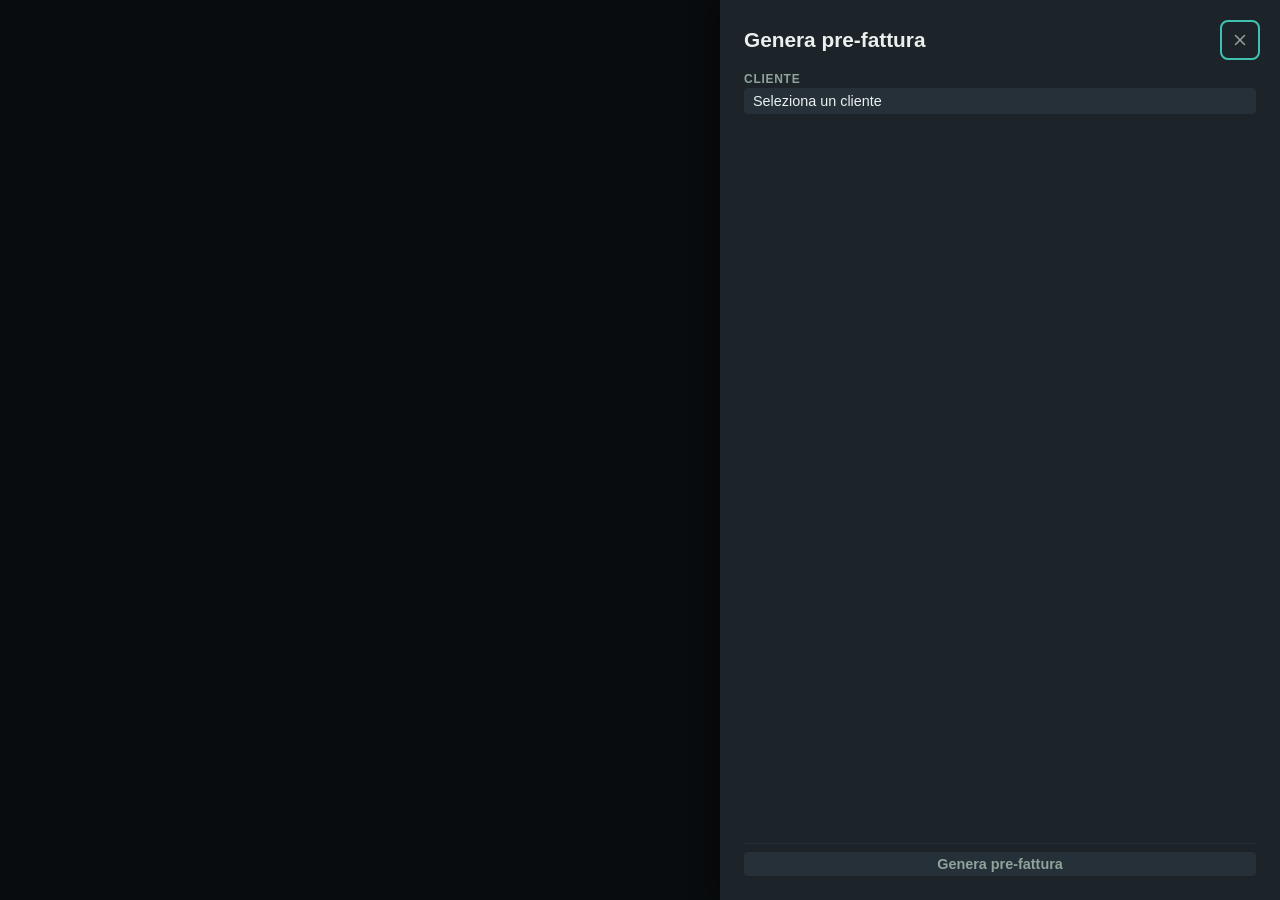
Test case: GenerateInvoiceDrawerComponent › filtra i task per progetto e resetta la selezione quando cambia il filtro
Select "Cliente Uno" in the dropdown labelled "Cliente": (1000, 101) [744, 88, 1256, 114]
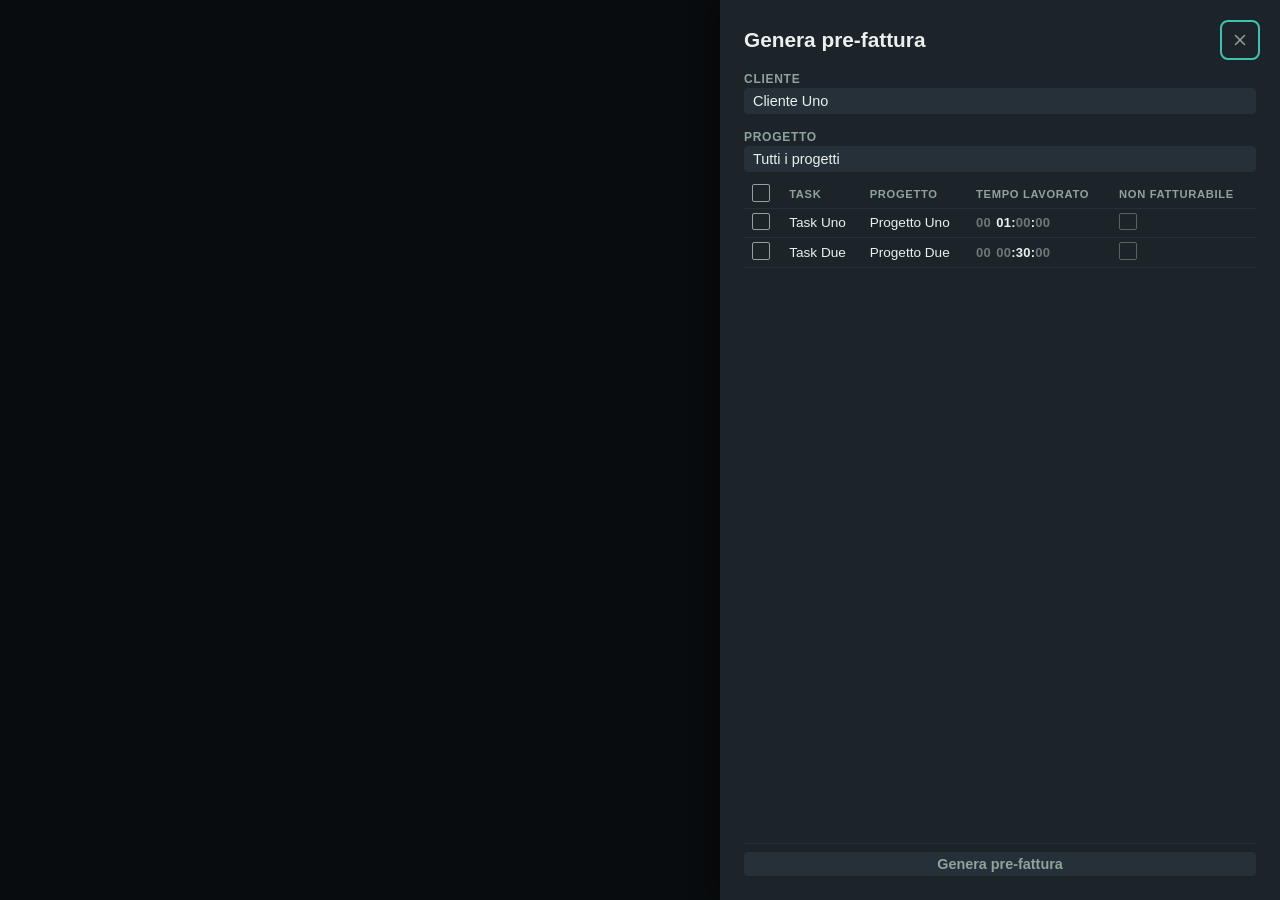
Check: the text "Task Due" is shown, box [781, 238, 862, 267]
Click the checkbox named "Includi Task Uno nella pre-fattura": (761, 221) [752, 213, 770, 230]
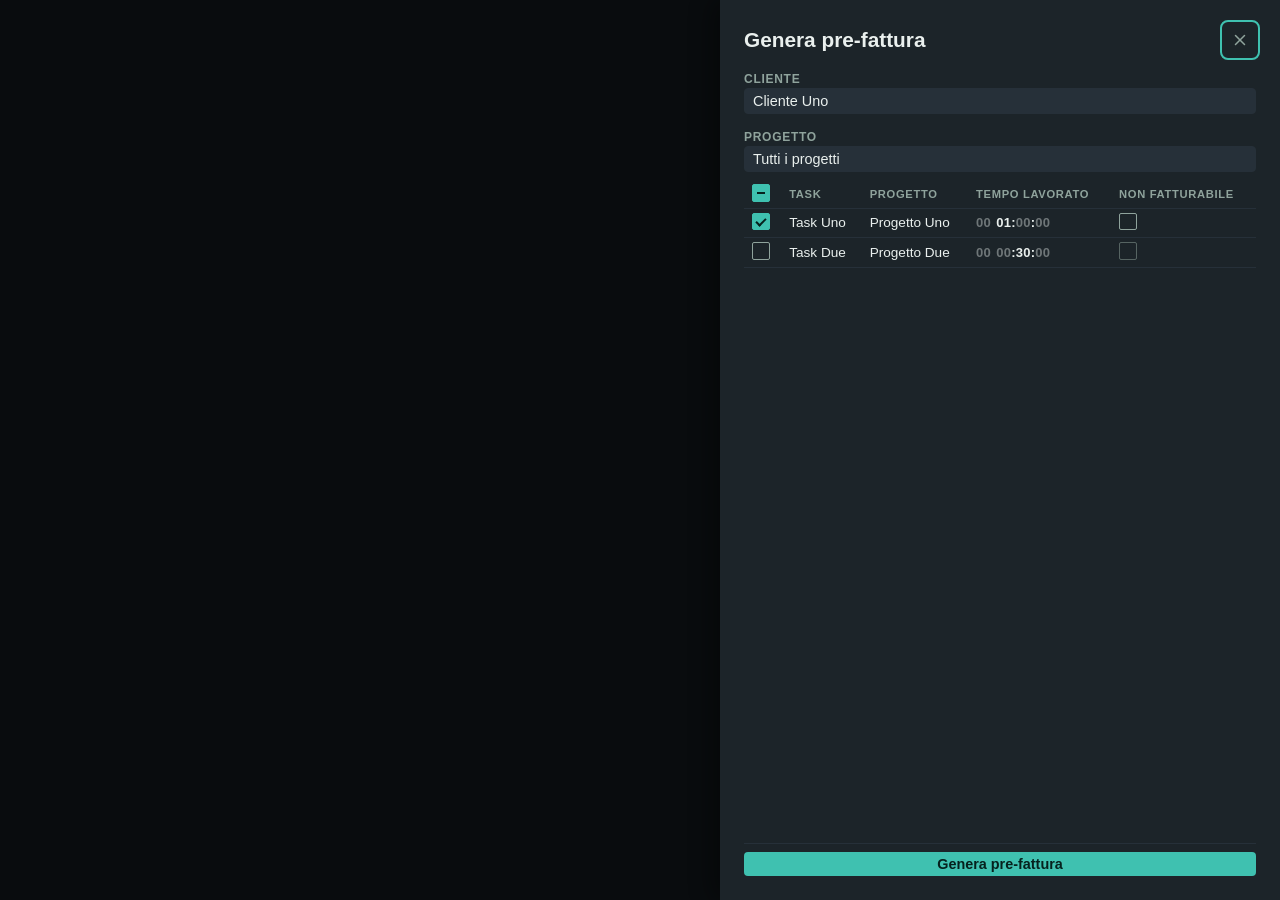
Check: the button "Genera pre-fattura" is enabled, box [744, 852, 1256, 876]
Select "Progetto Due" in the dropdown labelled "Progetto": (1000, 159) [744, 146, 1256, 172]
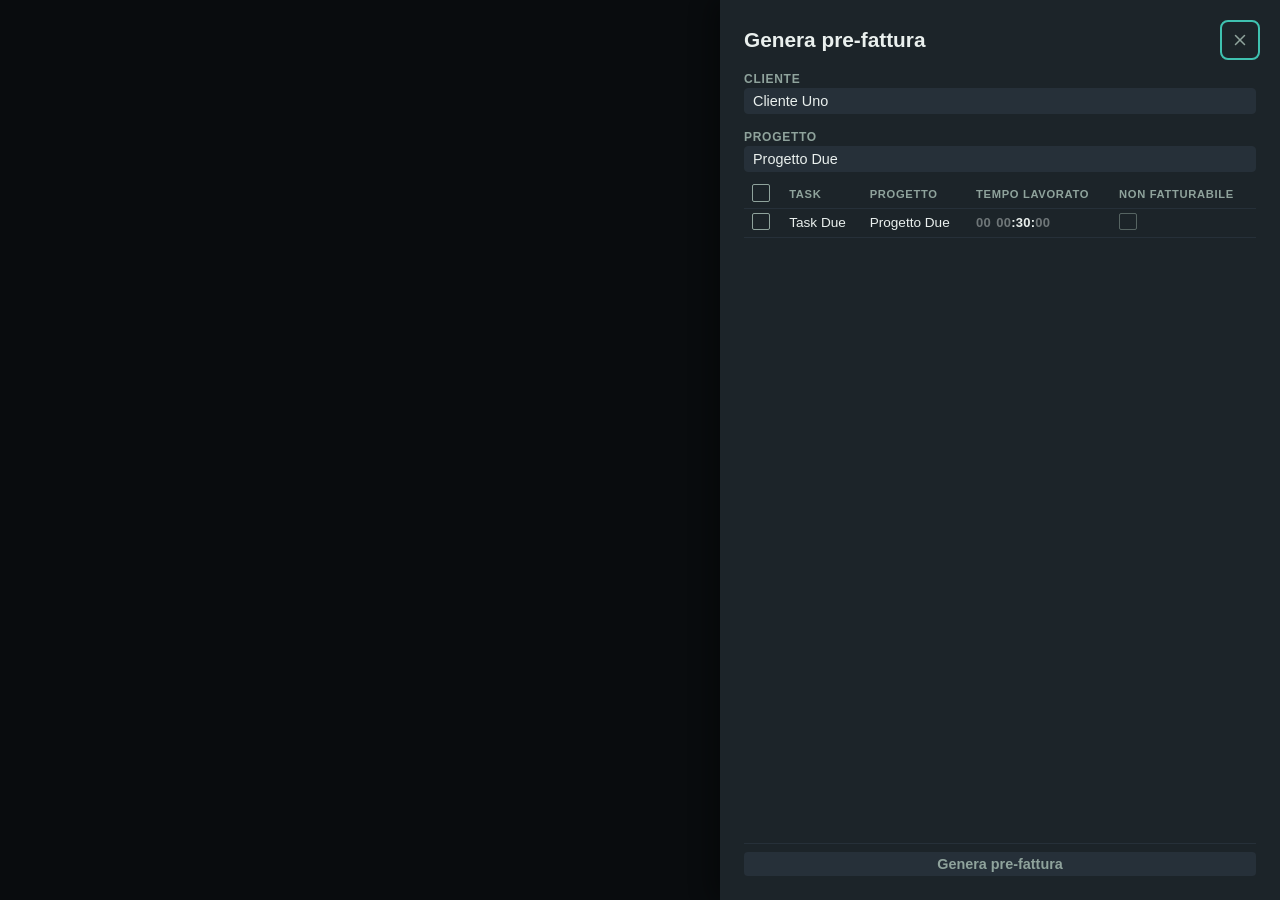
Check: the text "Task Due" is shown, box [781, 209, 862, 238]
Check: the text "Task Uno" is gone
Check: the button "Genera pre-fattura" is disabled, box [744, 852, 1256, 876]
Select "Tutti i progetti" in the dropdown labelled "Progetto": (1000, 159) [744, 146, 1256, 172]
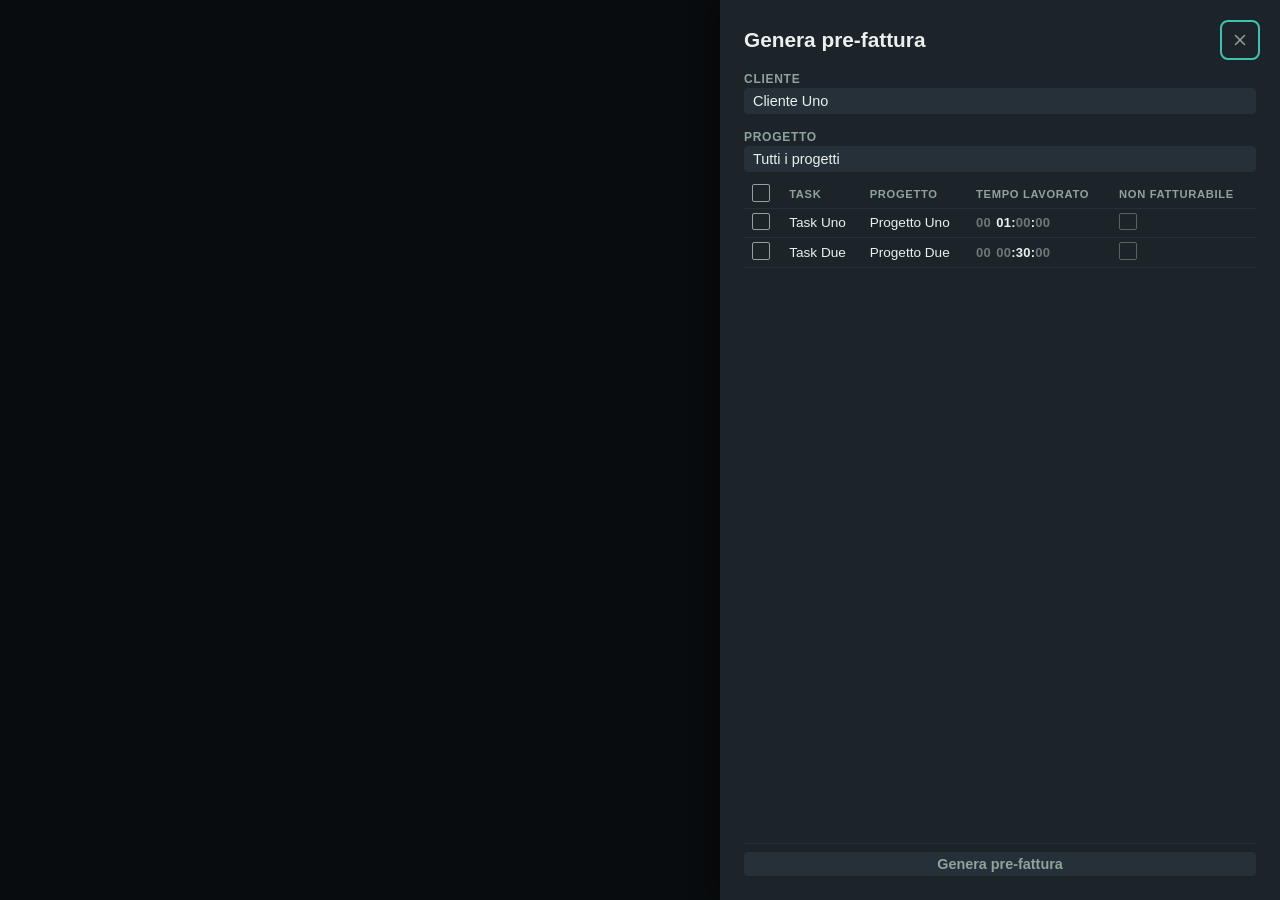
Check: the text "Task Due" is shown, box [781, 238, 862, 267]
Check: the text "Task Uno" is shown, box [781, 209, 862, 238]
